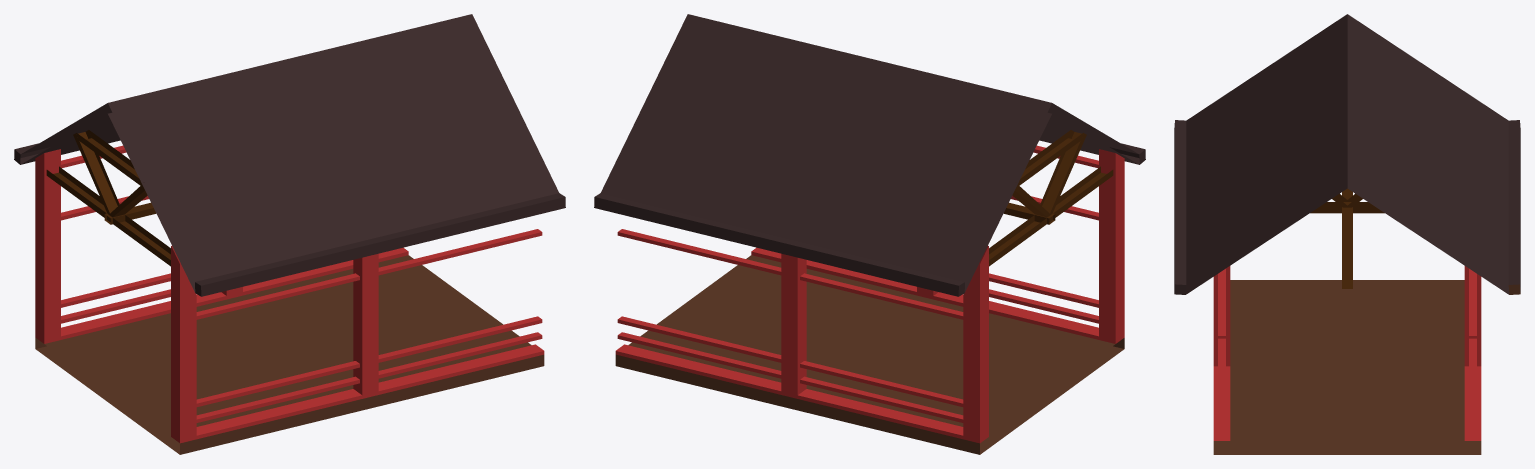
File: Ponte-MEIO.fbx
3 views of the same model, side by side, from view 1: azimuth 30°, elevation 25°; view 2: azimuth 150°, elevation 25°; view 3: azimuth 270°, elevation 25° (orthographic). The views are drawn at different scales.
Visible parts, largest first — view 1: bridge middle; view 2: bridge middle; view 3: bridge middle.
Part boxes in pixels (left/top/right/bottom): bridge middle: left=14, top=14, right=565, bottom=454; bridge middle: left=594, top=14, right=1145, bottom=454; bridge middle: left=1174, top=14, right=1520, bottom=454.
Bounding box in the file's own units: 1740 × 1364 × 1548.
Materials: 1 (1 with a texture image).
